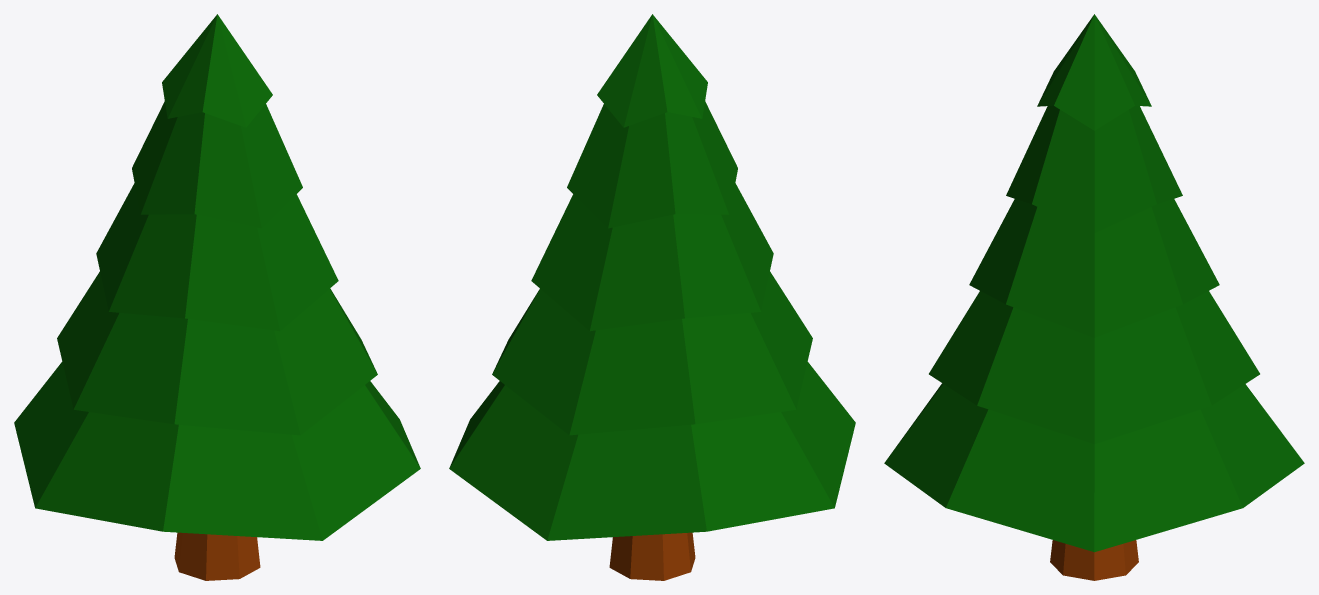
The model's file is pinetree_1.fbx.
3 views of the same model, side by side, from view 1: azimuth 30°, elevation 25°; view 2: azimuth 150°, elevation 25°; view 3: azimuth 270°, elevation 25° (orthographic).
Parts seen in each view (by area): view 1: Cylinder; view 2: Cylinder; view 3: Cylinder.
Boxes of the visible parts, left/top/right/bottom form: Cylinder: left=14, top=14, right=420, bottom=580; Cylinder: left=449, top=14, right=855, bottom=580; Cylinder: left=884, top=14, right=1304, bottom=580.
Bounding box in the file's own units: 473 × 680 × 473.
